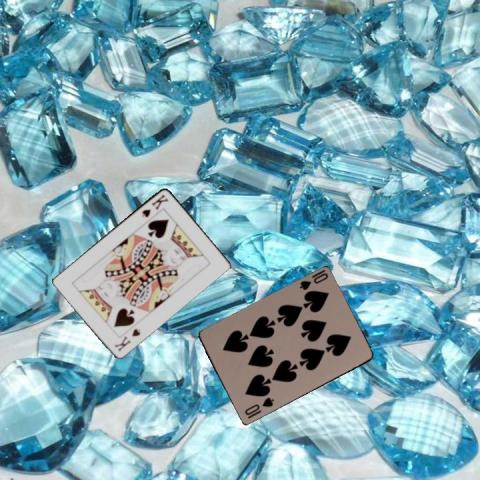10s: (296, 267, 329, 292), (241, 394, 275, 417)
Ks: (139, 191, 170, 219), (112, 325, 142, 352)
